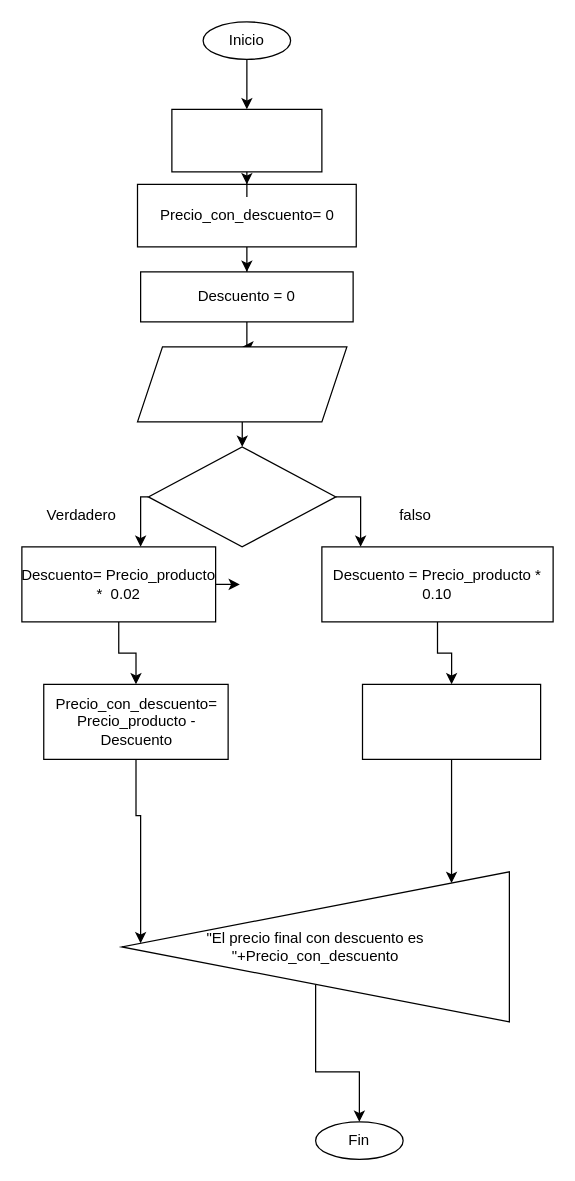
This 575x1181 diagram has some shape labels left out. Here are the shapes that lost their labels. From the top down, the box of each, then its label:
(171, 108, 322, 172): Precio_producto = 0
(136, 346, 347, 422): Ingresar el precio producto
(147, 446, 336, 547): Precio_producto < 100
(361, 683, 541, 759): Precio_con_descuento= Precio_producto- Descuento
